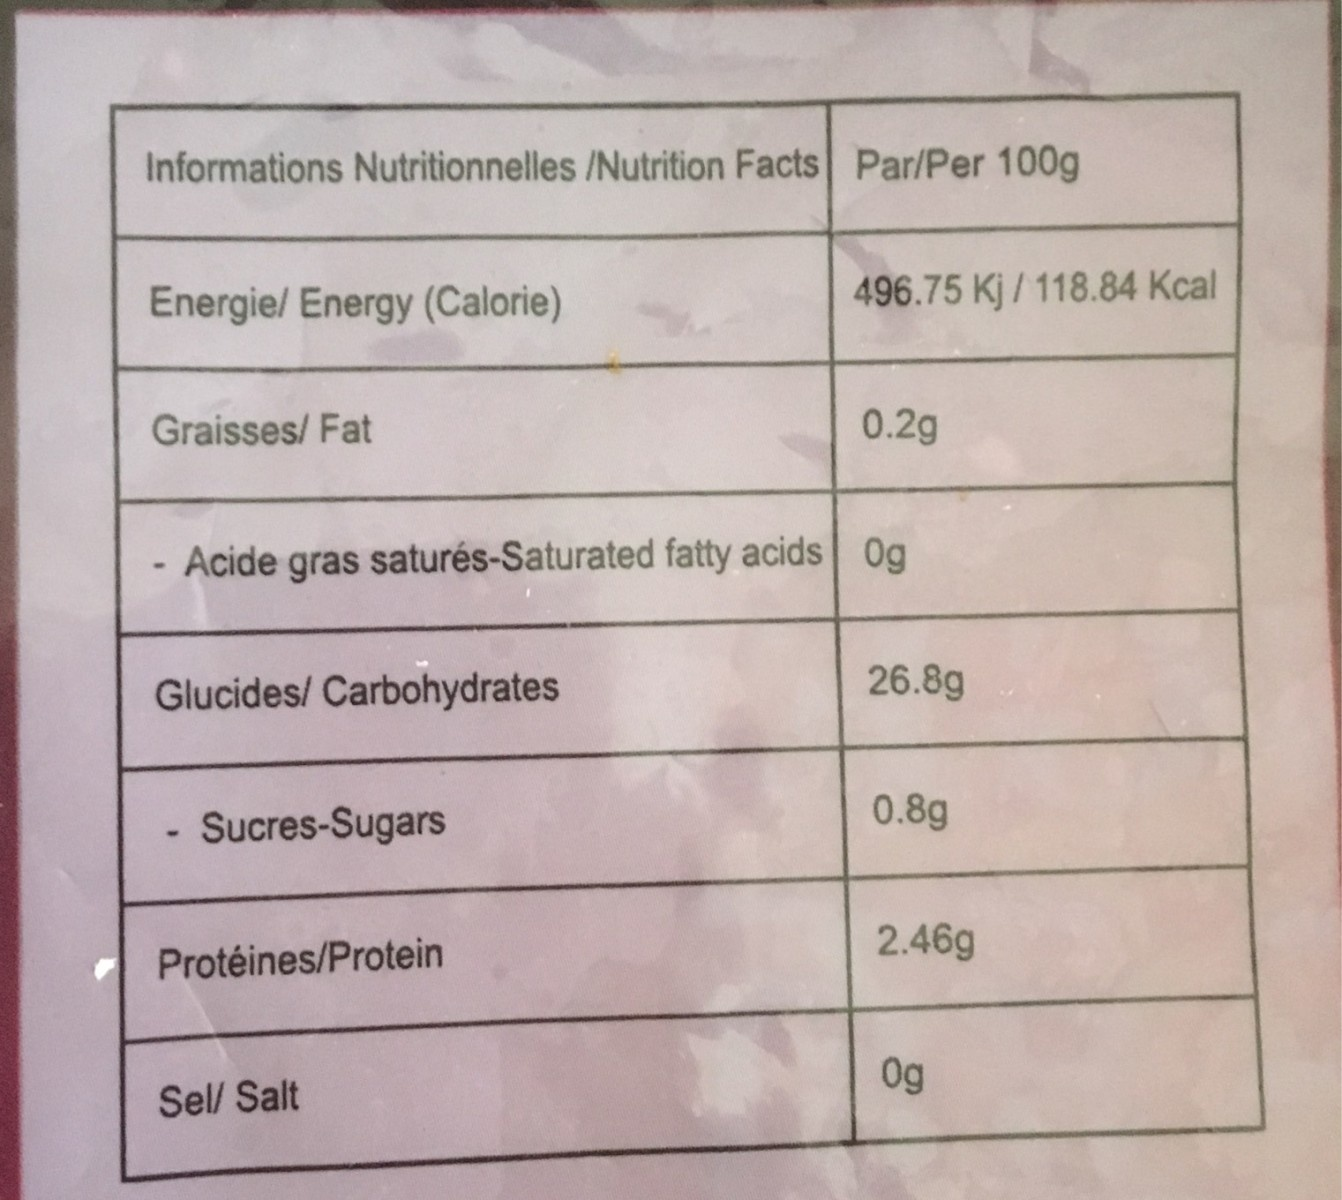column: (151, 104, 821, 1153), (855, 97, 1224, 1136)
table: (115, 107, 1273, 1163)
